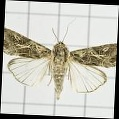Spodoptera litura: (3, 16, 116, 101)
